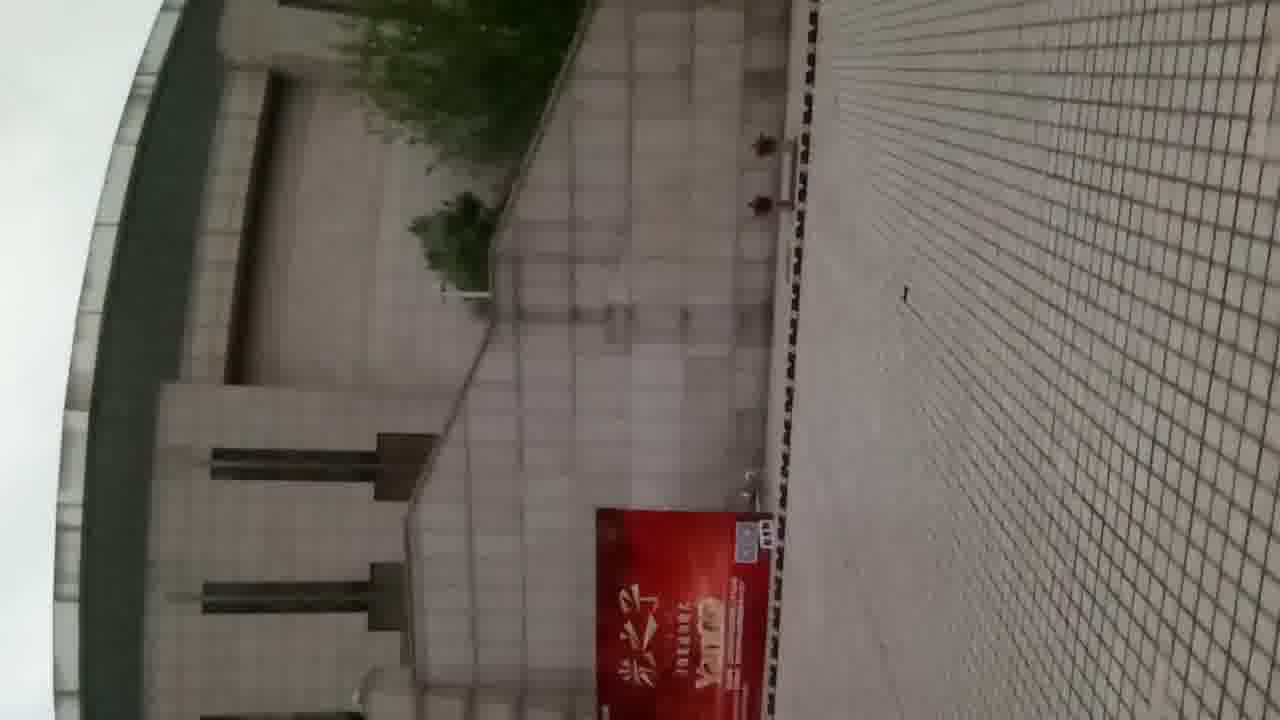zhongtiww: (43, 16, 824, 720)
